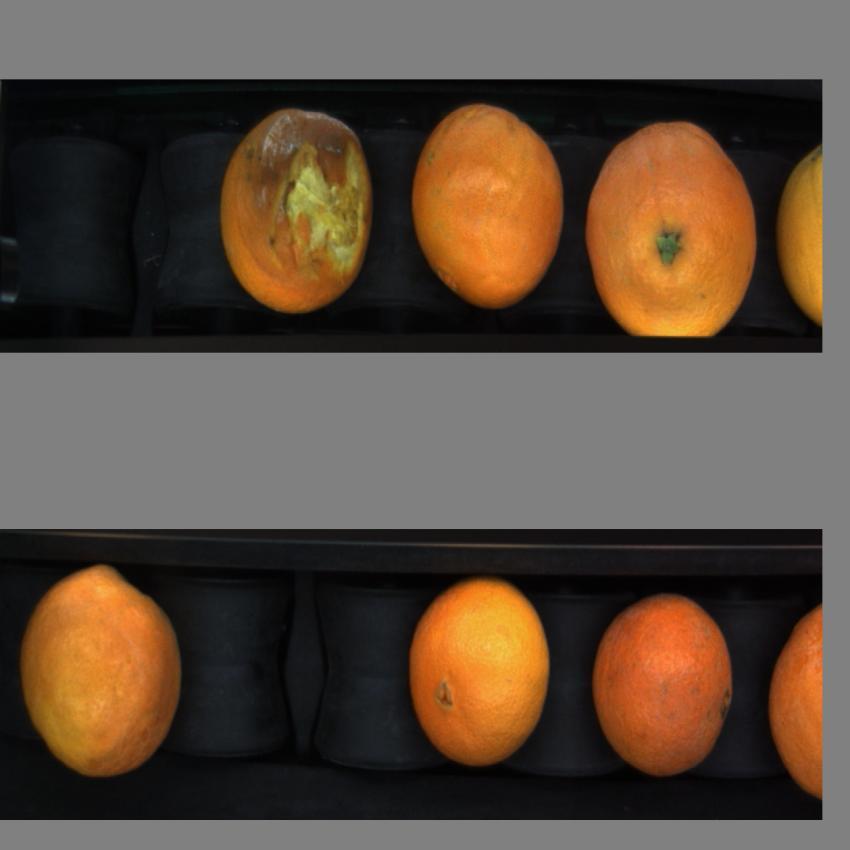Buen estado: (16, 554, 187, 791), (581, 116, 758, 343), (410, 100, 566, 316), (587, 581, 740, 792), (408, 562, 553, 782), (765, 589, 823, 805), (776, 131, 824, 339)
Mal estado: (217, 98, 375, 320)
